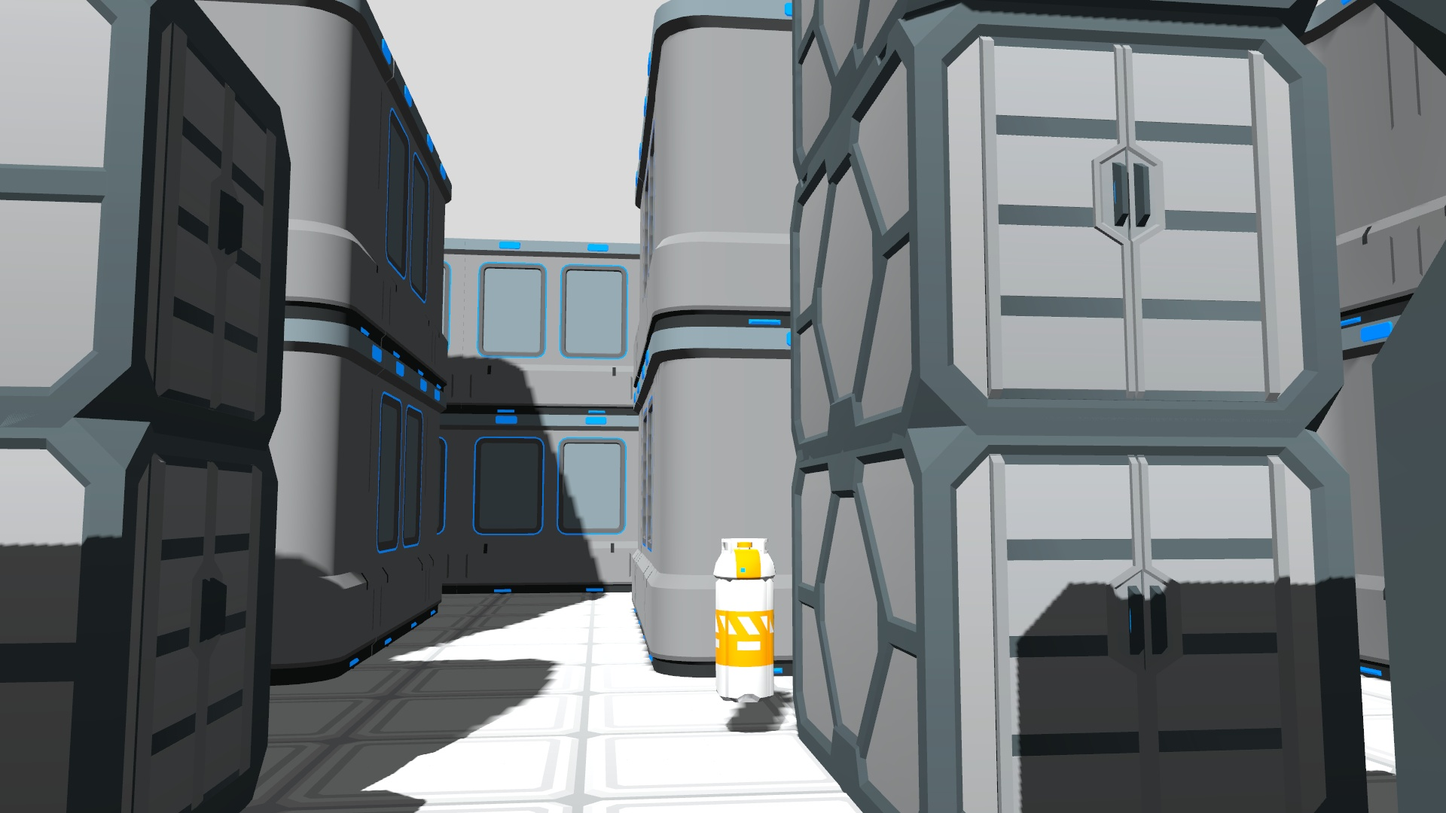yellow_barrel: (708, 531, 779, 708)
